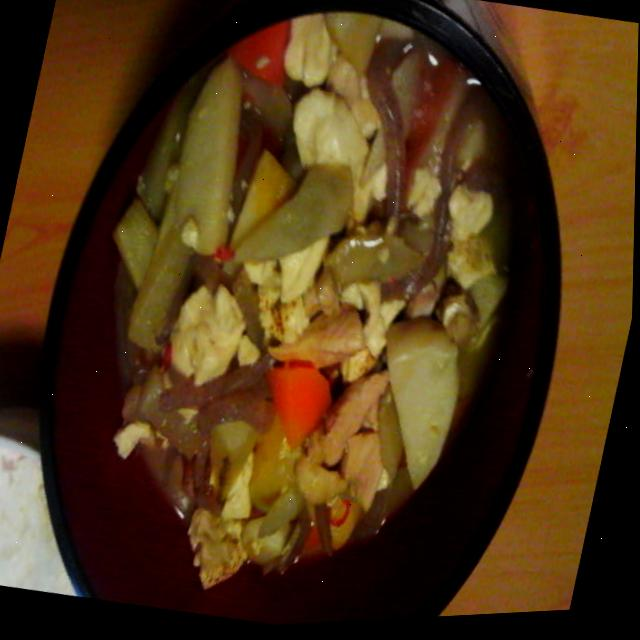米饭主食: (0, 428, 117, 603)
